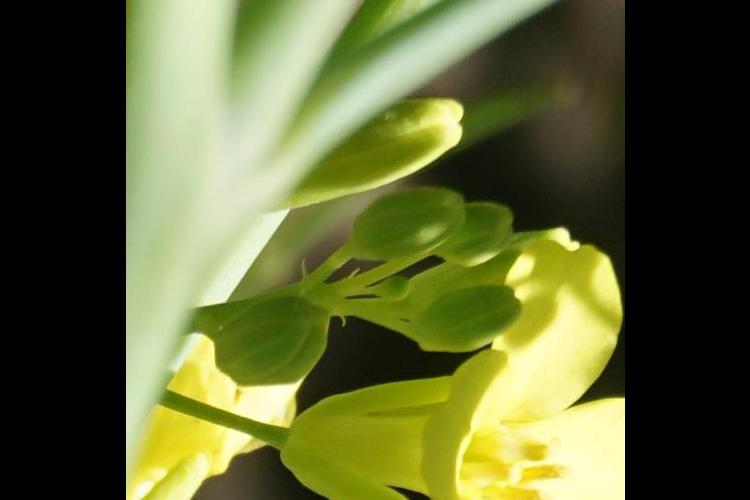bud: (310, 108, 464, 189), (218, 290, 323, 389), (349, 184, 458, 255), (416, 287, 515, 352), (438, 203, 508, 263), (371, 276, 415, 302)
yellow: (301, 260, 613, 500)
